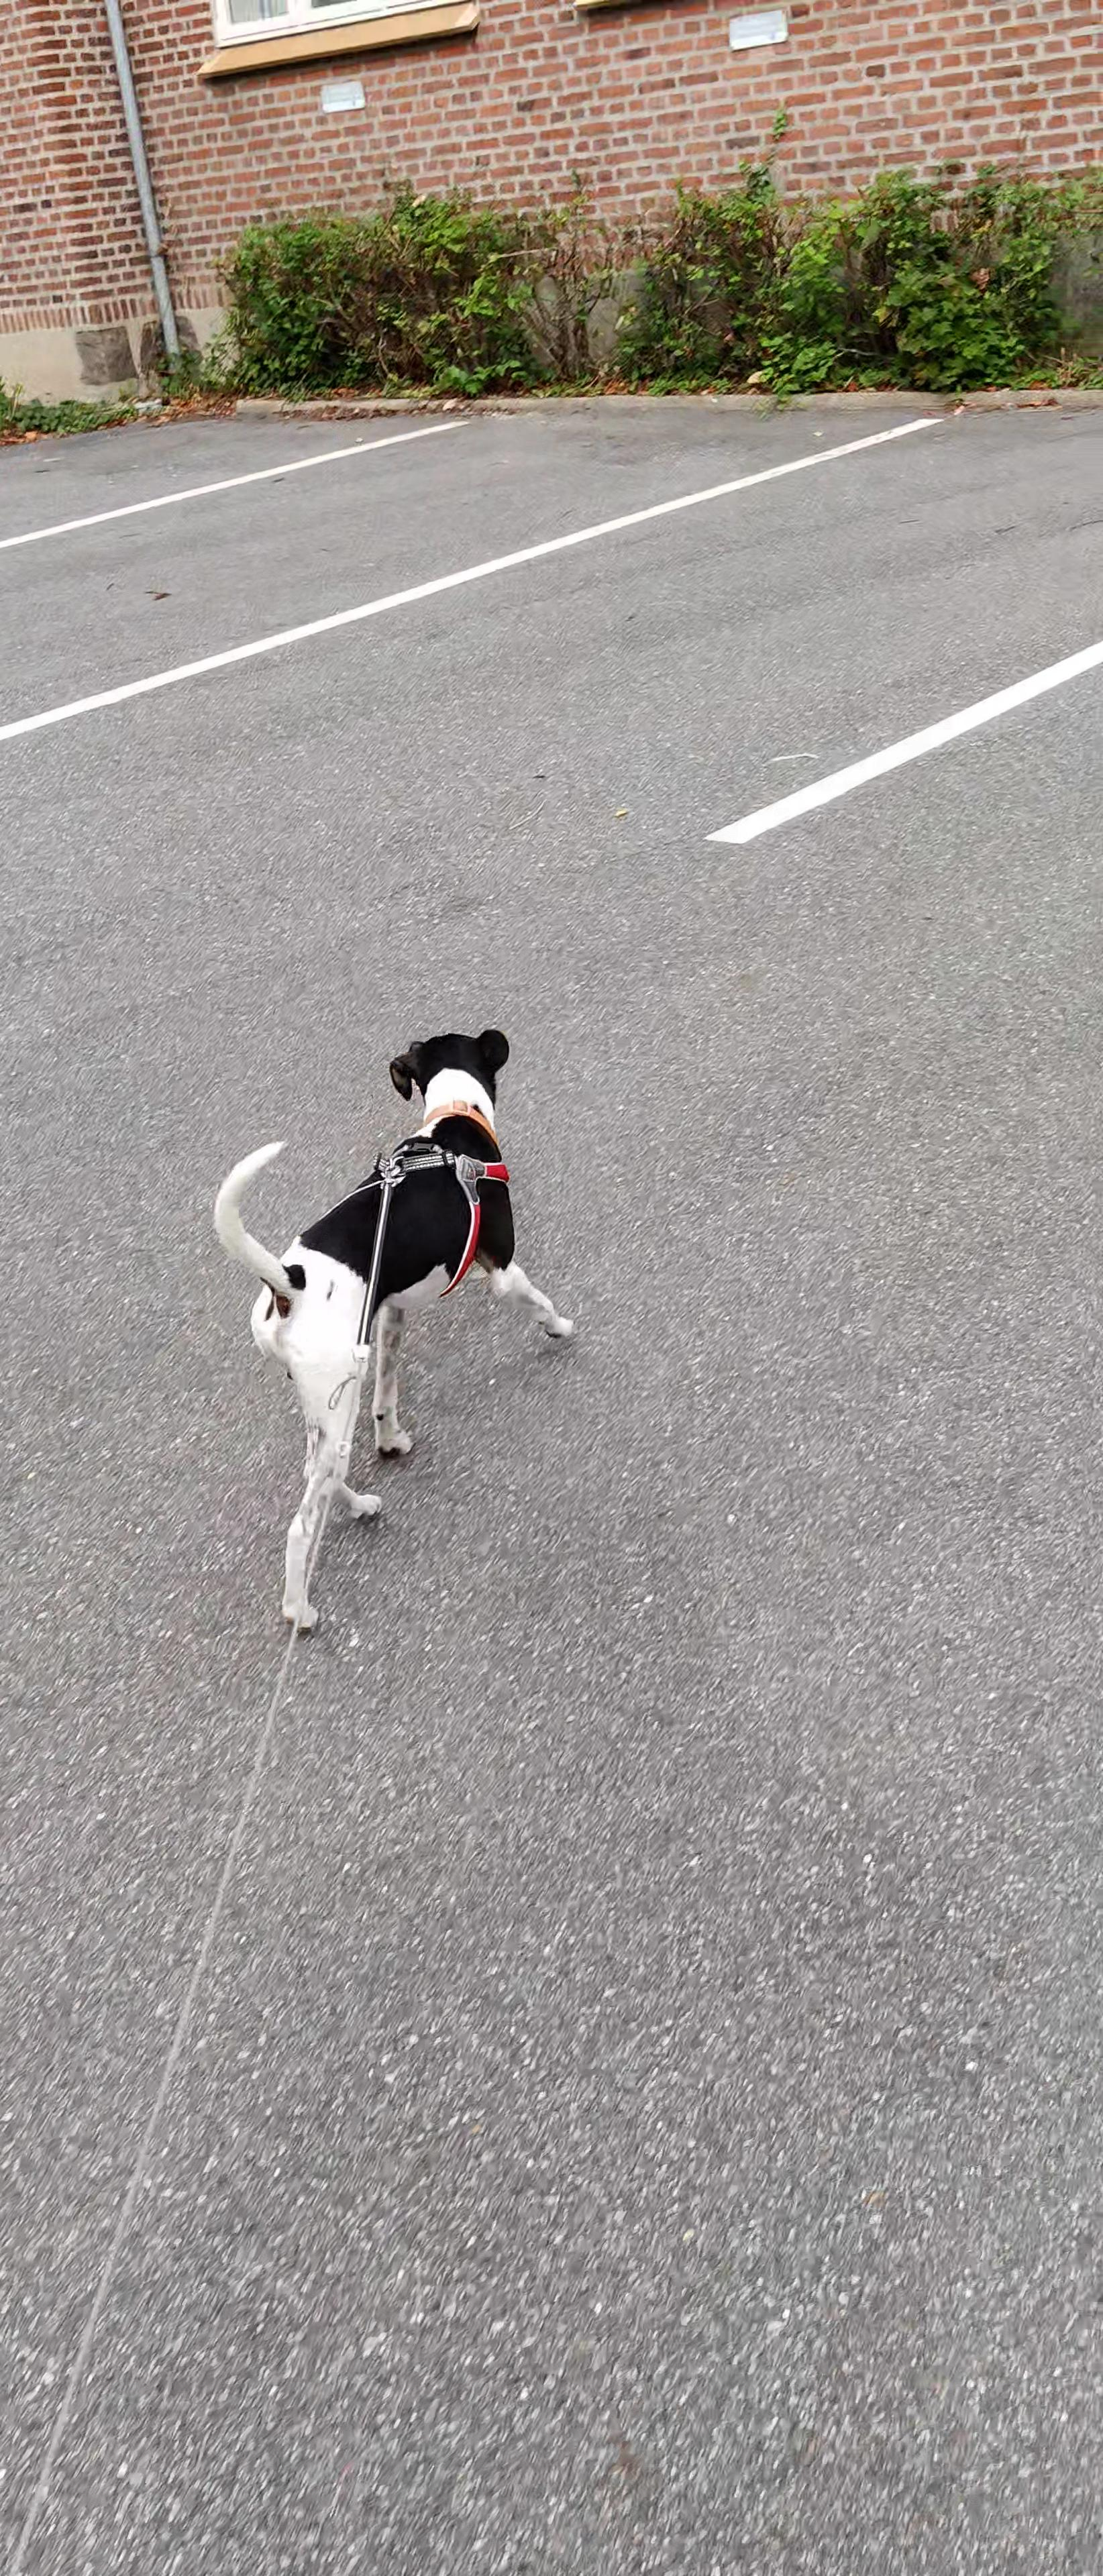Dog: (205, 1017, 580, 1649)
